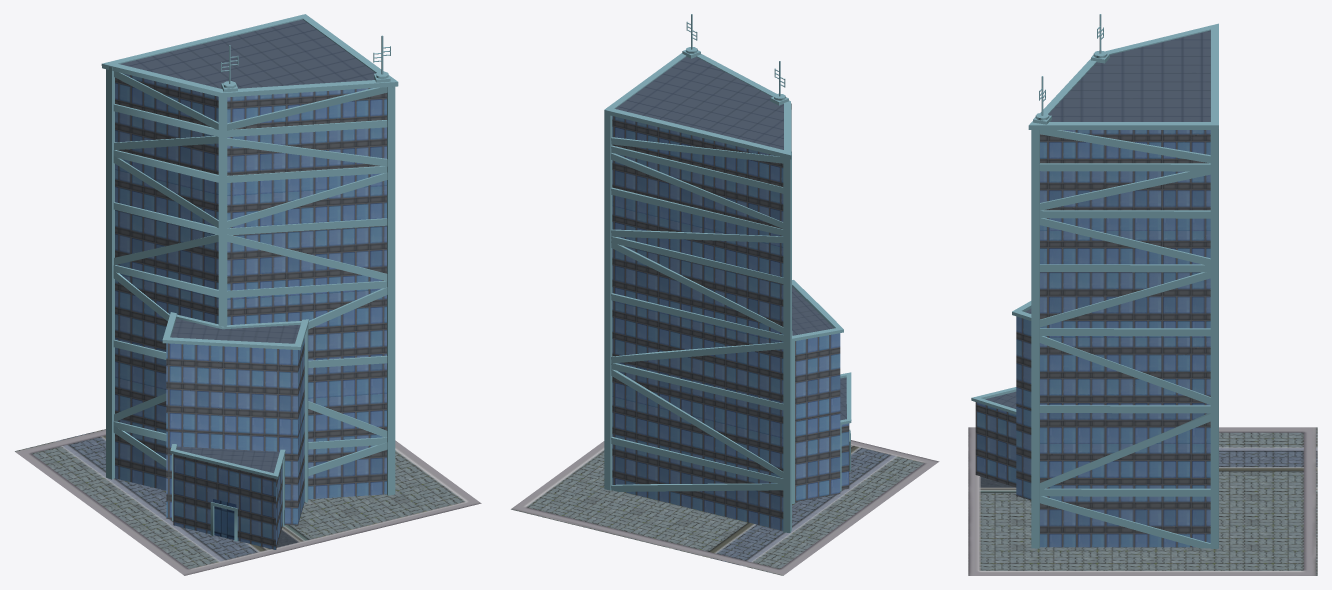
The model's file is 03_dalou_init.FBX.
3 renders of one model, left to right at view 1: azimuth 30°, elevation 25°; view 2: azimuth 150°, elevation 25°; view 3: azimuth 270°, elevation 25°, orthographic. The views are drawn at different scales.
Visible parts, largest first — view 1: 03_dalou_init; view 2: 03_dalou_init; view 3: 03_dalou_init.
Part boxes in pixels (x1=…): 03_dalou_init: x1=15, y1=14, x2=481, y2=575; 03_dalou_init: x1=511, y1=14, x2=939, y2=575; 03_dalou_init: x1=968, y1=14, x2=1317, y2=575.
Bounding box in the file's own units: 9674 × 14379 × 9604.
